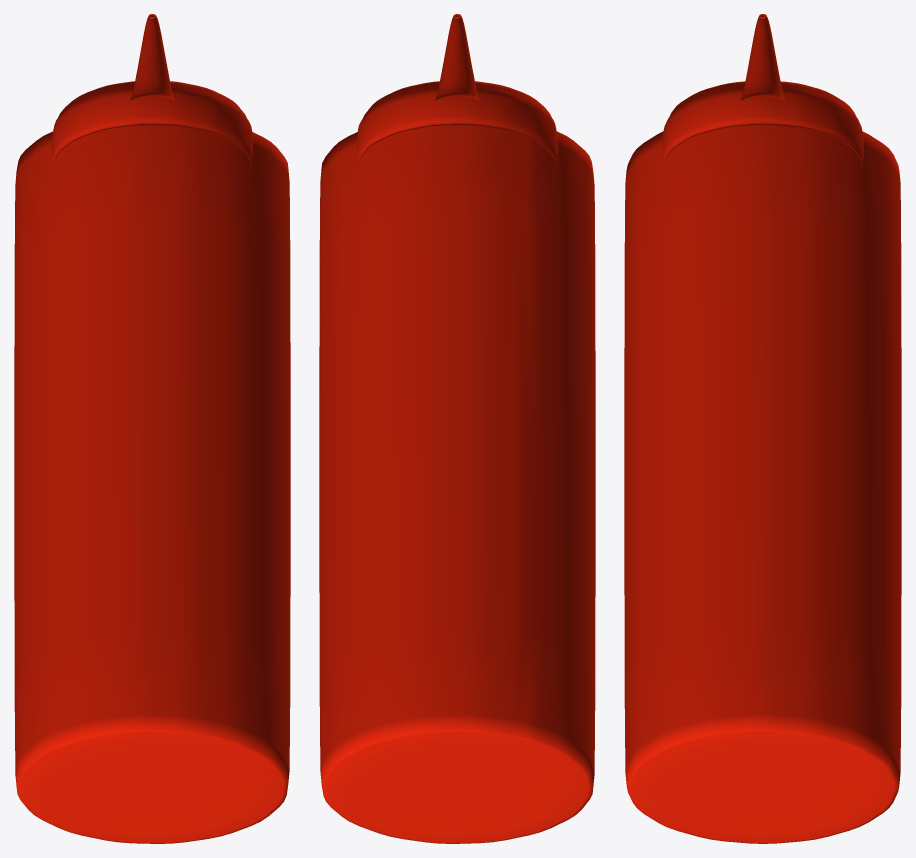
The model's file is food_sauce_chili.glb.
The picture shows the model from 3 angles, left to right: view 1: azimuth 30°, elevation 25°; view 2: azimuth 150°, elevation 25°; view 3: azimuth 270°, elevation 25°; orthographic projection.
Visible parts, largest first — view 1: food_sauce_chili; view 2: food_sauce_chili; view 3: food_sauce_chili.
Boxes of the visible parts, <box> form: food_sauce_chili: <box>14,14,290,843</box>; food_sauce_chili: <box>319,14,595,843</box>; food_sauce_chili: <box>624,14,901,843</box>.
Size of the model in its own units: 32.53 by 100 by 32.53.
